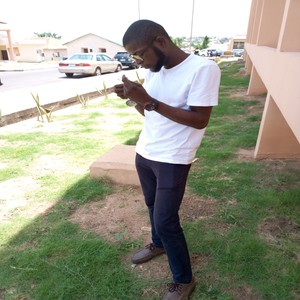Fulokoja_male_student: (124, 21, 217, 247)
